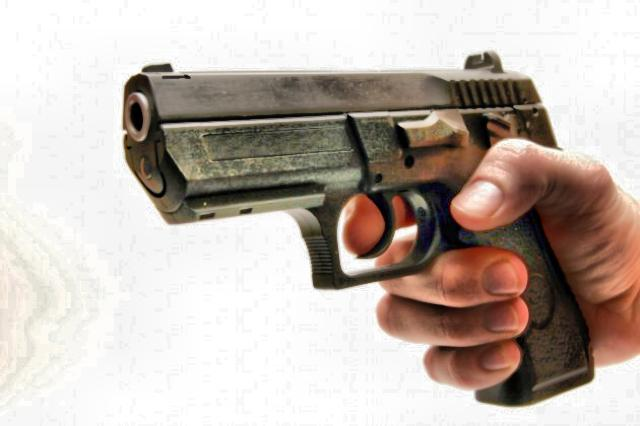pistol: (118, 56, 600, 408)
